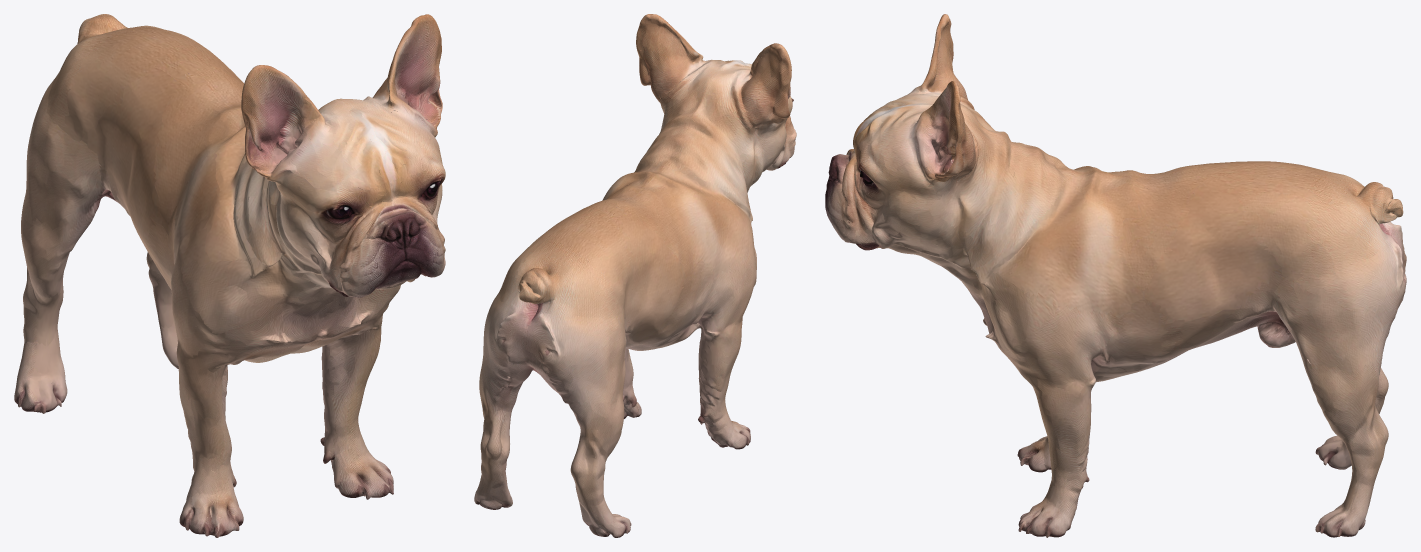
File: zhuangzhuang-standing-base.glb
3 renders of one model, left to right at view 1: azimuth 30°, elevation 25°; view 2: azimuth 150°, elevation 25°; view 3: azimuth 270°, elevation 25°, orthographic. The views are drawn at different scales.
Parts seen in each view (by area): view 1: Mesh_0; view 2: Mesh_0; view 3: Mesh_0.
Boxes of the visible parts, x1,y1,x2,y2 form: Mesh_0: (14,14,445,537); Mesh_0: (474,14,796,537); Mesh_0: (825,14,1406,537).
Size of the model in its own units: 0.1714 by 0.4 by 0.4716.
1 material, 1 textured.
